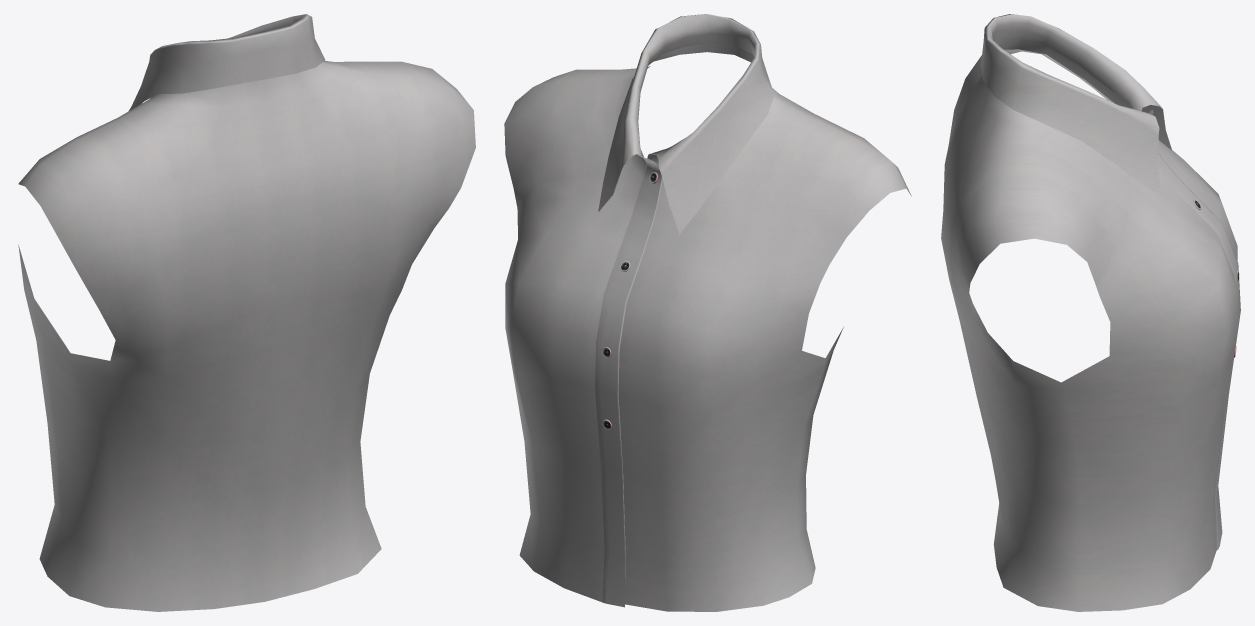
The model's file is LLSQ5ZS_chengyi-processed-01.glb.
3 renders of one model, left to right at view 1: azimuth 30°, elevation 25°; view 2: azimuth 150°, elevation 25°; view 3: azimuth 270°, elevation 25°, orthographic. The views are drawn at different scales.
Parts seen in each view (by area): view 1: LLSQ5ZS_chengyi_gaigou; view 2: LLSQ5ZS_chengyi_gaigou; view 3: LLSQ5ZS_chengyi_gaigou.
Boxes of the visible parts, bbox=[...] form: LLSQ5ZS_chengyi_gaigou: bbox=[18, 14, 475, 611]; LLSQ5ZS_chengyi_gaigou: bbox=[504, 14, 911, 611]; LLSQ5ZS_chengyi_gaigou: bbox=[941, 14, 1240, 611].
Bounding box in the file's own units: 34.02 × 43.39 × 22.79.
2 materials, 2 textured.
